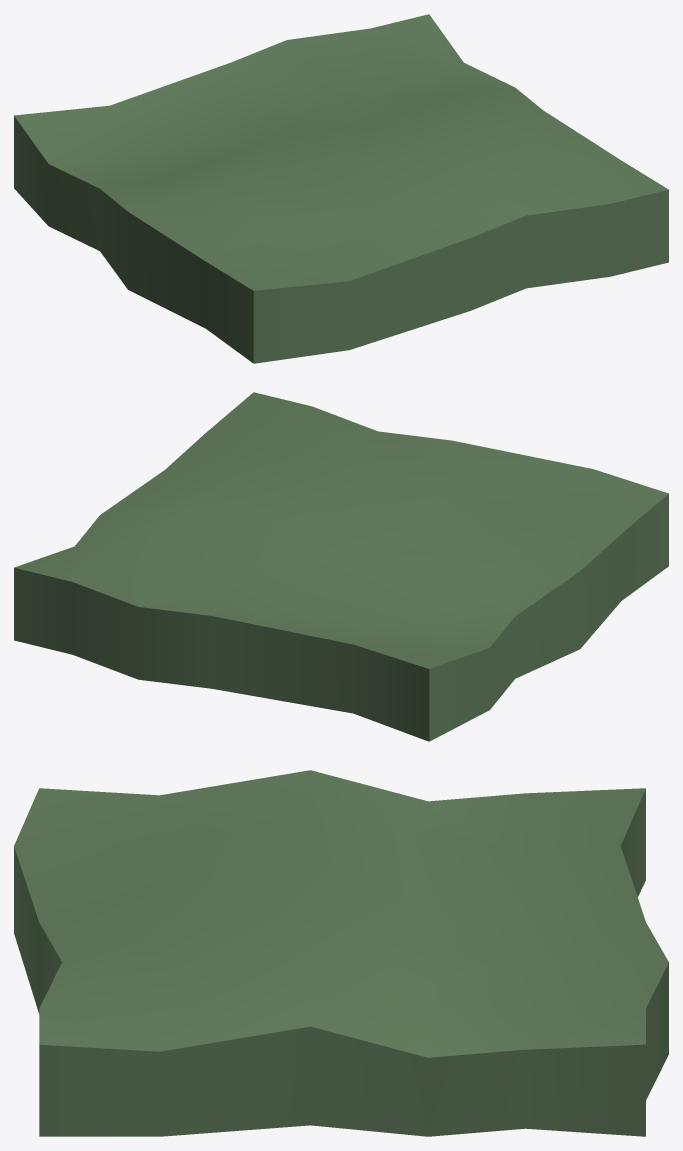
The model's file is SM_Grass.fbx.
The picture shows the model from 3 angles, top to bottom: view 1: azimuth 30°, elevation 25°; view 2: azimuth 150°, elevation 25°; view 3: azimuth 270°, elevation 25°; orthographic projection. The views are drawn at different scales.
Parts seen in each view (by area): view 1: SM_Grass; view 2: SM_Grass; view 3: SM_Grass.
Boxes of the visible parts, <box> form: SM_Grass: <box>14,14,668,363</box>; SM_Grass: <box>14,392,668,741</box>; SM_Grass: <box>14,770,668,1136</box>.
Size of the model in its own units: 1.04 by 0.1928 by 1.08.
